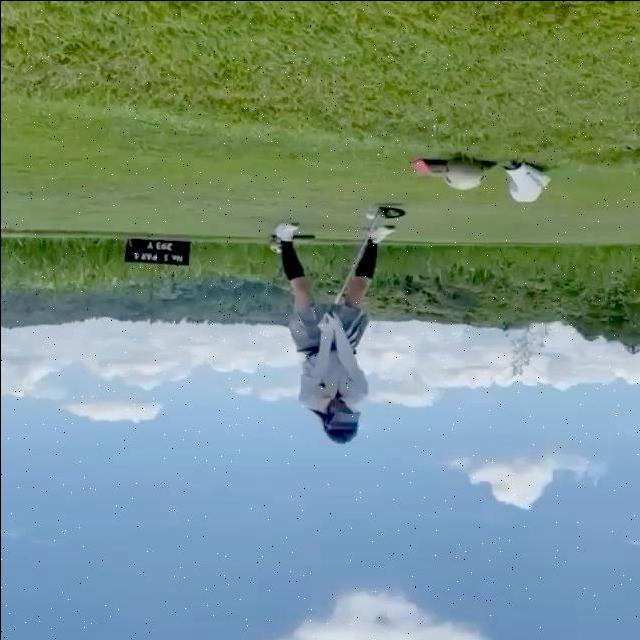golf ball: (365, 211, 374, 218)
golf club-handle: (329, 206, 405, 312)
golf club-head: (377, 206, 404, 218)
